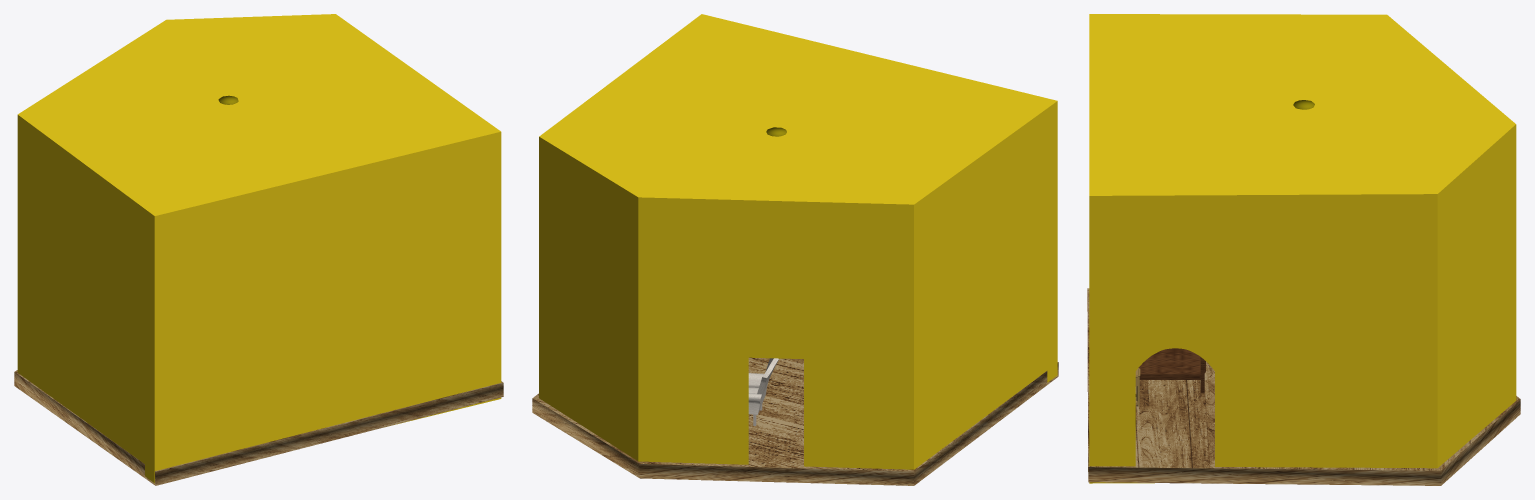
File: bedroom.fbx
The picture shows the model from 3 angles, left to right: view 1: azimuth 30°, elevation 25°; view 2: azimuth 150°, elevation 25°; view 3: azimuth 270°, elevation 25°; orthographic projection. The views are drawn at different scales.
Parts seen in each view (by area): view 1: WALLS, FLOOR; view 2: WALLS, FLOOR, ARMCHAIR_Left; view 3: WALLS, FLOOR, BEDFRAME.
Part boxes in pixels (x1,y1,x2,y2): WALLS: [17, 14, 501, 483]; FLOOR: [14, 370, 503, 485]; WALLS: [539, 14, 1057, 469]; FLOOR: [532, 357, 1058, 485]; ARMCHAIR_Left: [748, 358, 779, 425]; WALLS: [1089, 14, 1516, 483]; FLOOR: [1087, 288, 1520, 485]; BEDFRAME: [1138, 348, 1205, 393].
Bounding box in the file's own units: 1426 × 1068 × 1425.
